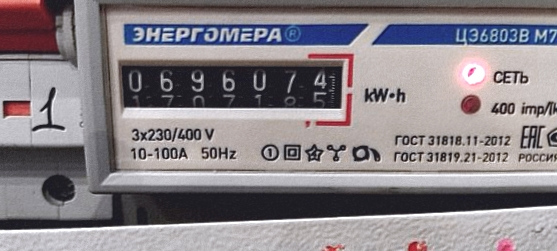0: (124, 67, 143, 93), (251, 66, 267, 92)
4: (312, 66, 328, 90)
5: (312, 90, 327, 108)
6: (157, 66, 176, 93), (219, 68, 236, 92)
7: (280, 67, 298, 94)
9: (187, 67, 206, 92)
screen: (106, 45, 358, 129)
